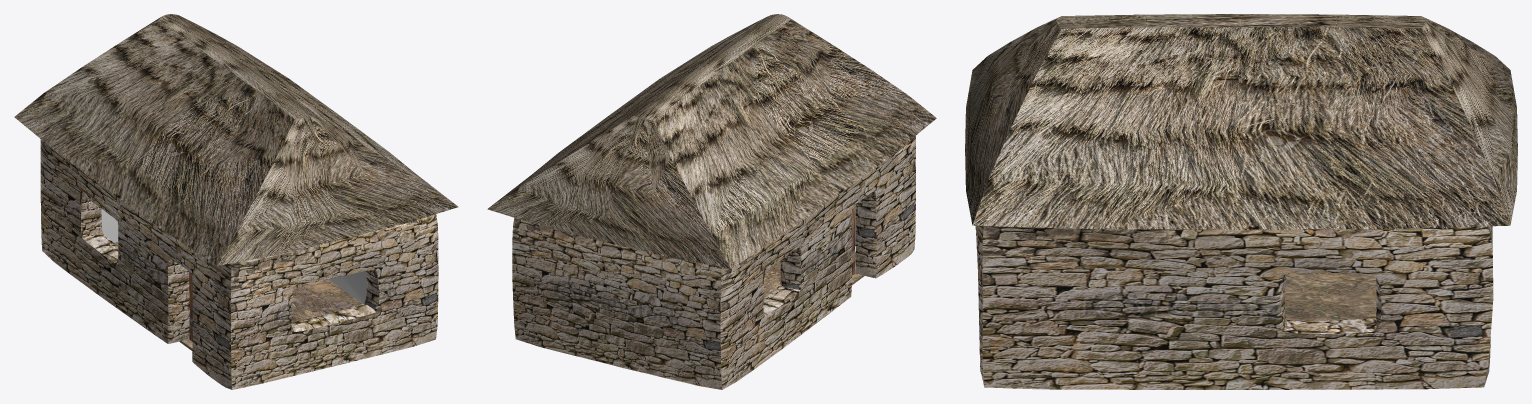
File: closed house.FBX
The picture shows the model from 3 angles, left to right: view 1: azimuth 30°, elevation 25°; view 2: azimuth 150°, elevation 25°; view 3: azimuth 270°, elevation 25°; orthographic projection. The views are drawn at different scales.
Visible parts, largest first — view 1: Box007, Box008, Box010; view 2: Box007, Box008, Box010; view 3: Box007, Box008, Box010.
Boxes of the visible parts, x1=… form: Box007: x1=14, y1=14, x2=458, y2=265; Box008: x1=40, y1=139, x2=438, y2=389; Box010: x1=114, y1=242, x2=361, y2=350; Box007: x1=487, y1=14, x2=936, y2=268; Box008: x1=512, y1=136, x2=915, y2=389; Box010: x1=763, y1=252, x2=864, y2=298; Box007: x1=965, y1=14, x2=1517, y2=229; Box008: x1=975, y1=226, x2=1493, y2=389; Box010: x1=1284, y1=273, x2=1376, y2=320.
Bounding box in the file's own units: 0.1524 × 0.1376 × 0.2226.
